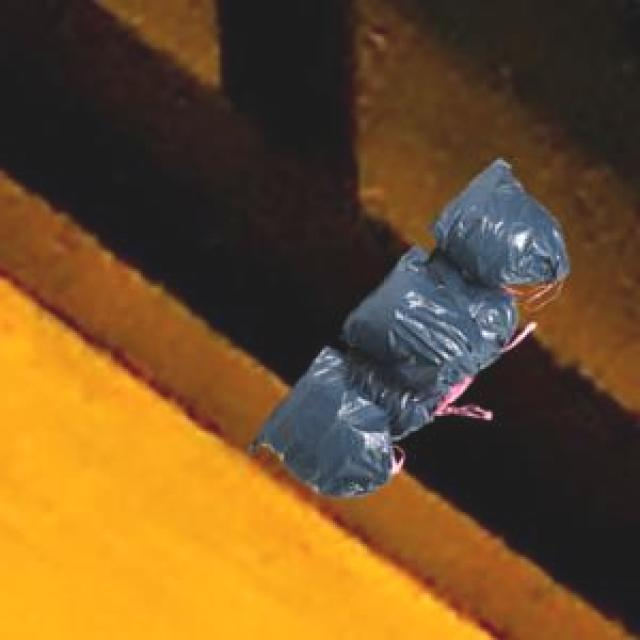Trashbag: (271, 357, 394, 502), (362, 253, 473, 390), (449, 160, 565, 286)
